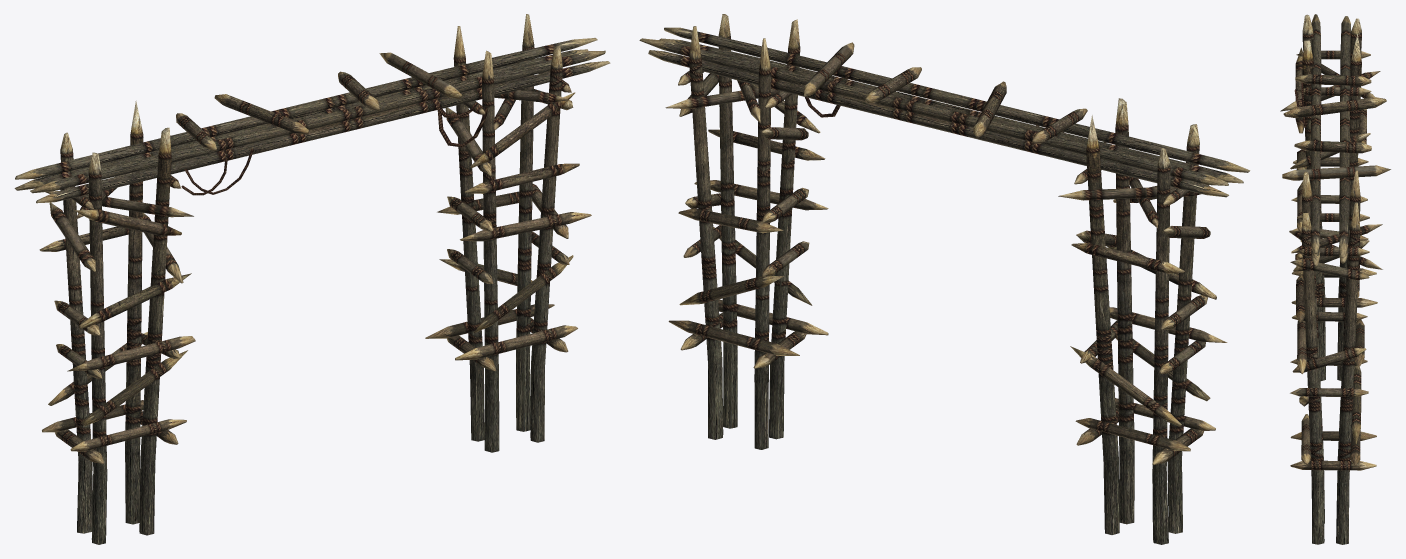
File: gaint_gate_01.fbx
The picture shows the model from 3 angles, left to right: view 1: azimuth 30°, elevation 25°; view 2: azimuth 150°, elevation 25°; view 3: azimuth 270°, elevation 25°; orthographic projection. The views are drawn at different scales.
Visible parts, largest first — view 1: Object11; view 2: Object11; view 3: Object11.
Part boxes in pixels (<box>): Object11: <box>14,14,610,544</box>; Object11: <box>639,14,1250,544</box>; Object11: <box>1280,14,1390,544</box>.
Size of the model in its own units: 22.51 by 15.29 by 4.41.
